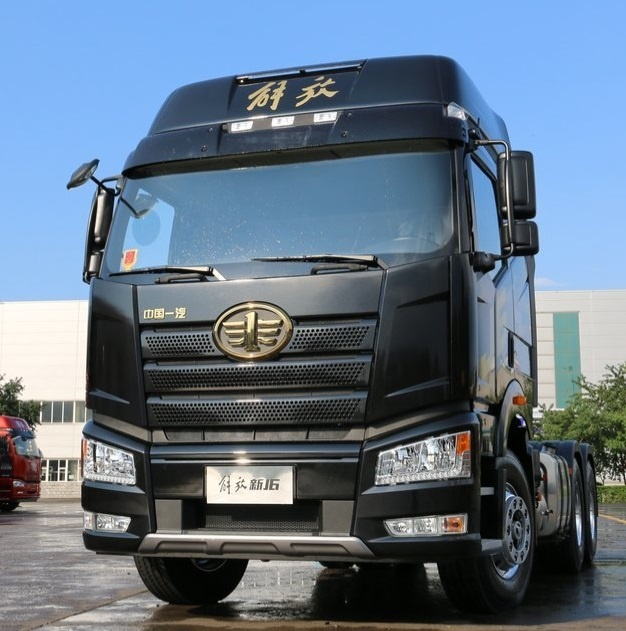heavy truck: (54, 52, 601, 609)
